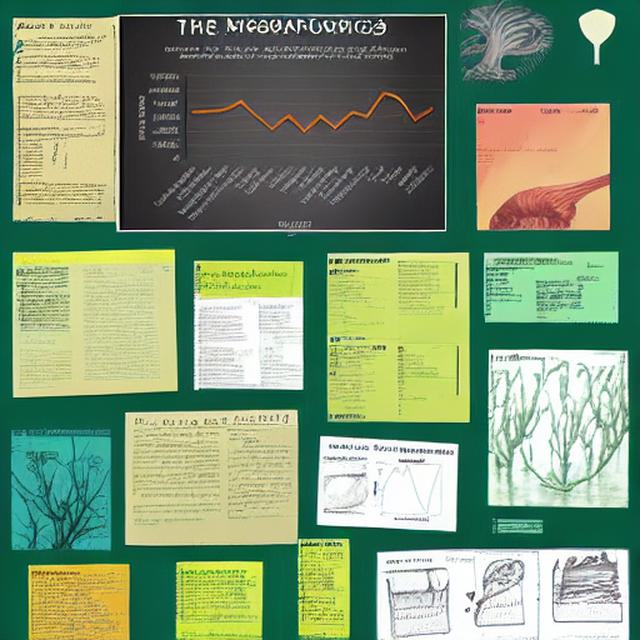Graph: (127, 40, 445, 230), (367, 456, 455, 522)
